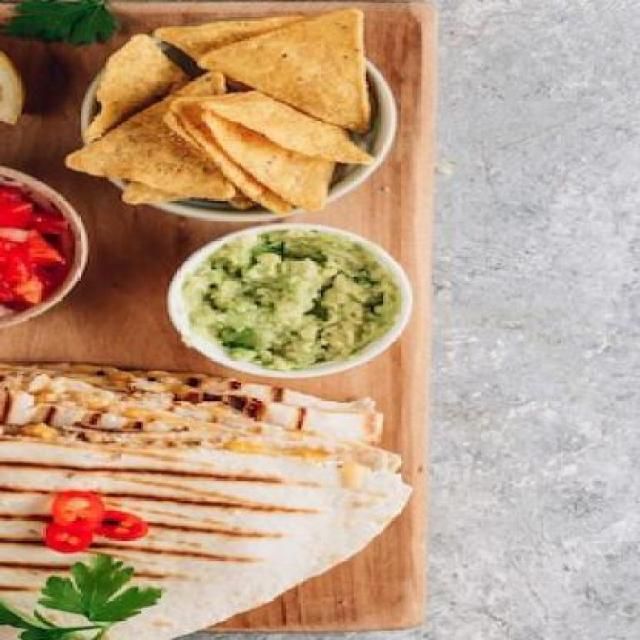guacamole: (148, 226, 422, 377)
nachos: (56, 9, 404, 222)
